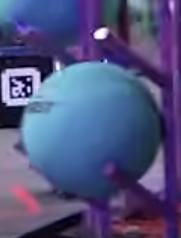algae: (22, 62, 160, 198), (0, 0, 125, 45)
